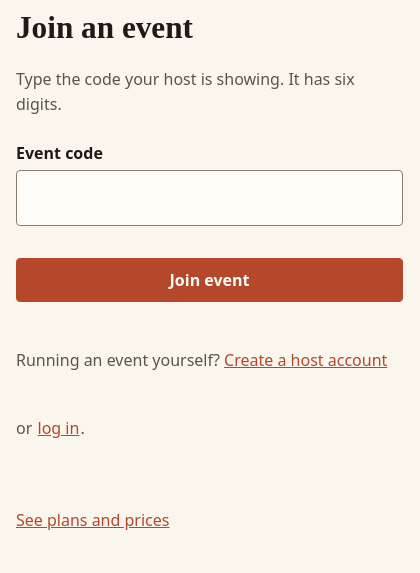
shows 'Event not found' for an invalid code
Type "000000" into the field labelled "Event code" at [210, 198], box [16,170,403,226]
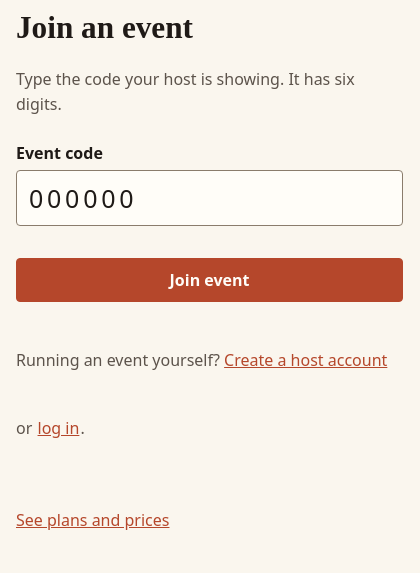
Click the button "Join event" at [210, 280], box [16,258,403,302]
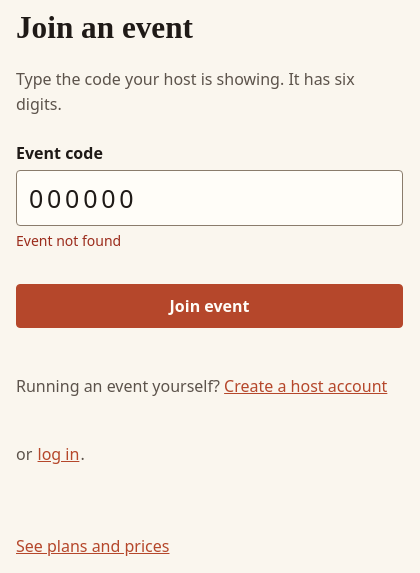
Result: the message reads "Event not found" at [16,232,121,250]
